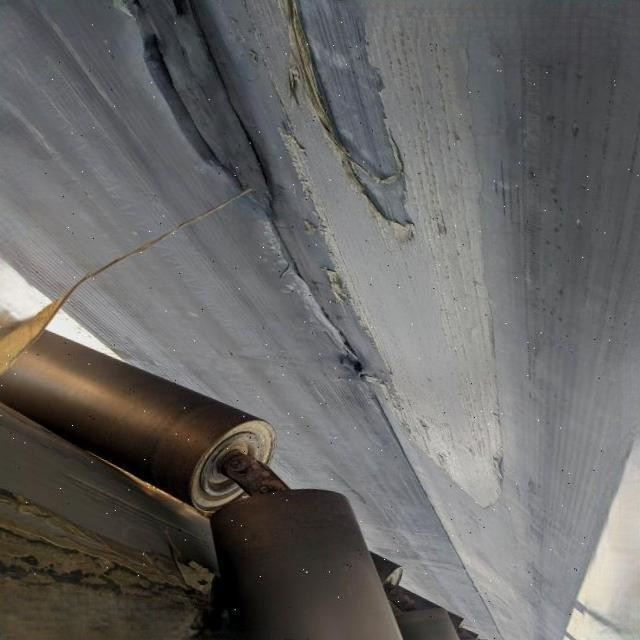Tear: (110, 0, 395, 389), (274, 0, 421, 236)
